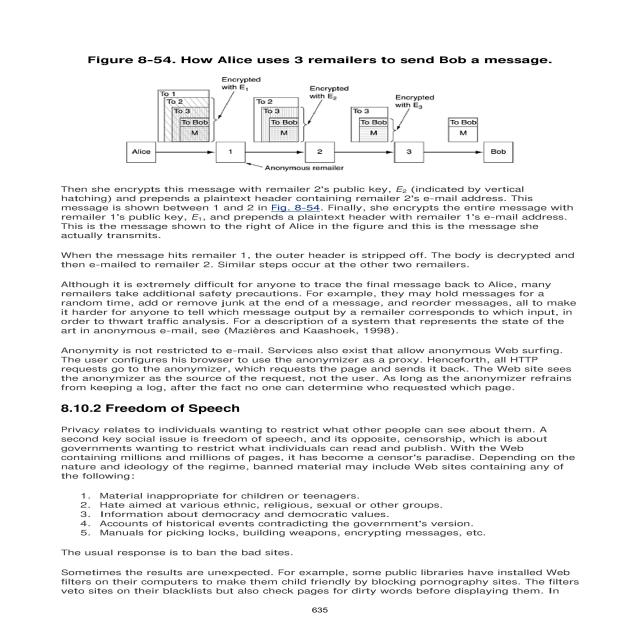diagram: (65, 43, 586, 174)
